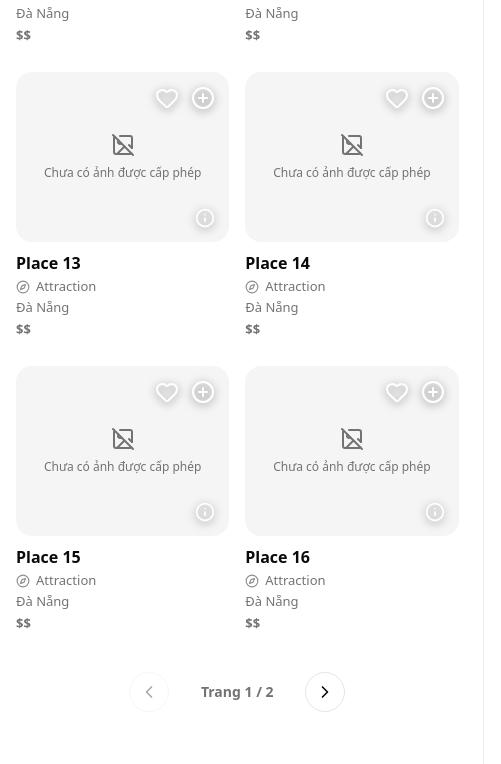
Scenario: PlaceDiscoveryView request coordination › shows at most 16 places per page and changes the map/list snapshot together
(page scrolled)
expect the text "Place 17" is not shown: met
Click the button named "Trang sau": (325, 692) [305,672,345,712]
(page scrolled)
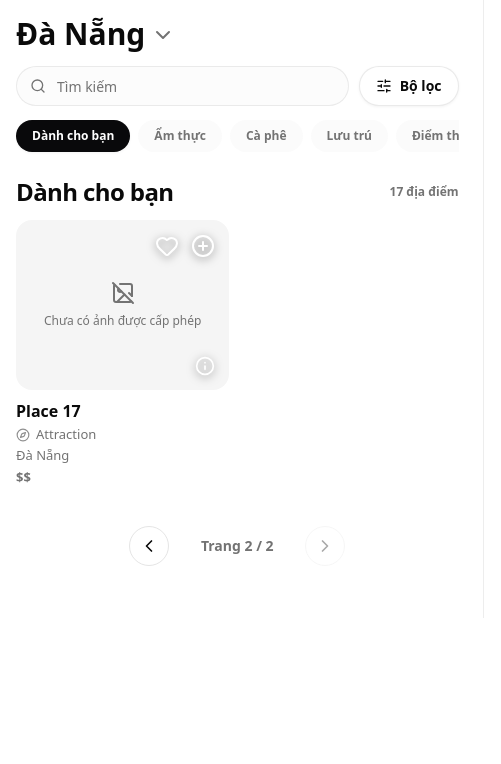
expect the text "Place 17" is shown: met, box [16,400,81,422]
expect the text "Trang 2 / 2" is shown: met, box [201,536,274,555]
